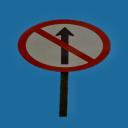NoSeguir: (16, 18, 114, 74)
